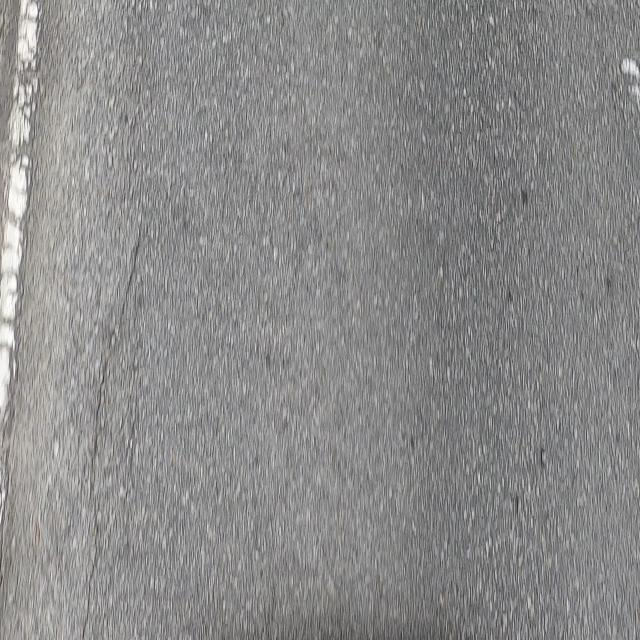Retak-Memanjang: (78, 218, 146, 633)
